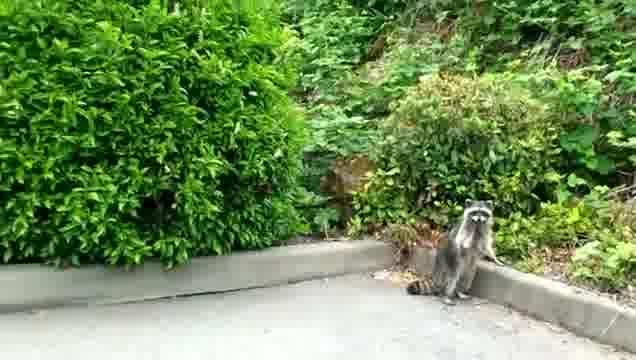raccoon: (406, 198, 504, 308)
